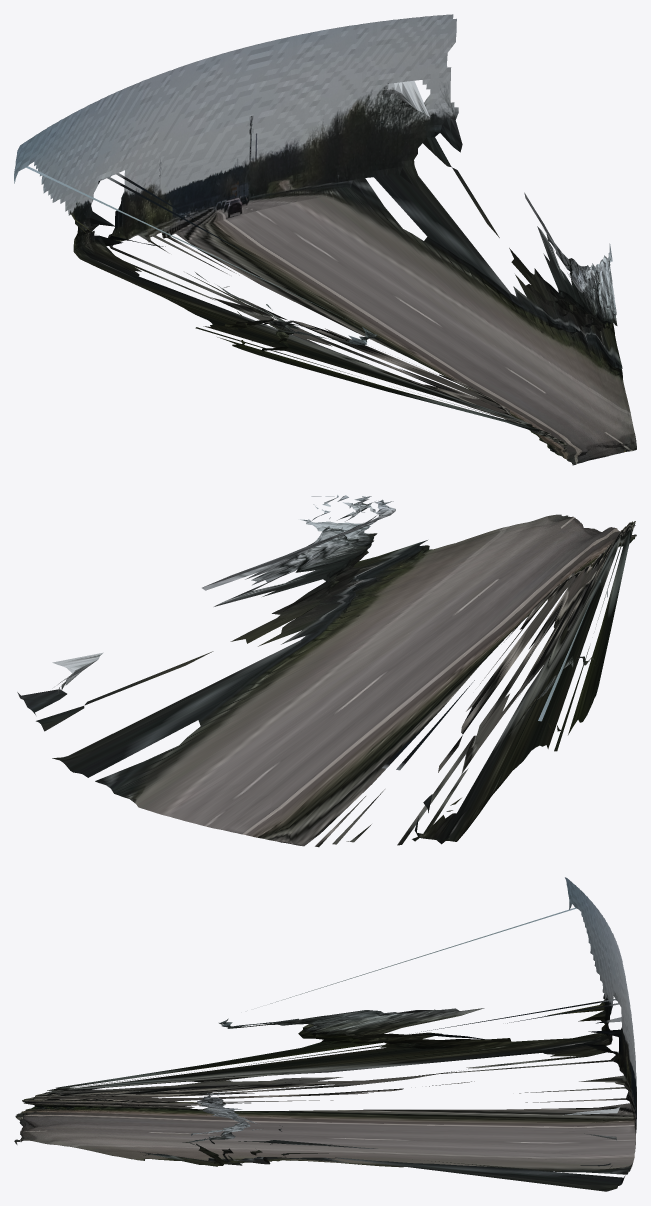
3 renders of one model, top to bottom at view 1: azimuth 30°, elevation 25°; view 2: azimuth 150°, elevation 25°; view 3: azimuth 270°, elevation 25°, orthographic. The views are drawn at different scales.
Visible parts, largest first — view 1: defaultobject; view 2: defaultobject; view 3: defaultobject.
Part boxes in pixels (x1,y1,x2,y2): defaultobject: (14, 14, 636, 465); defaultobject: (17, 495, 636, 847); defaultobject: (14, 877, 636, 1191).
Bounding box in the file's own units: 34.19 × 12.41 × 44.65.
Materials: 1 (1 with a texture image).
